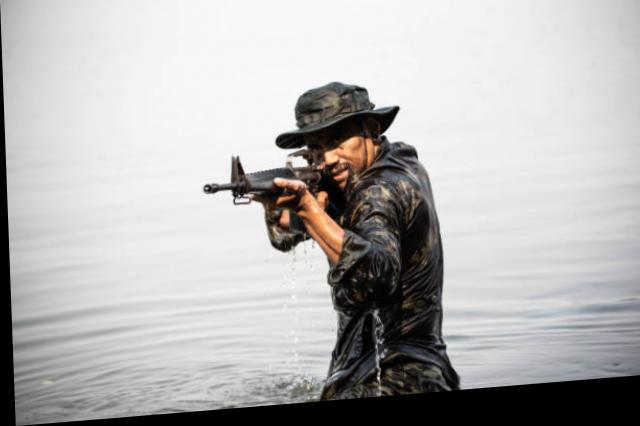other: (257, 76, 451, 407)
